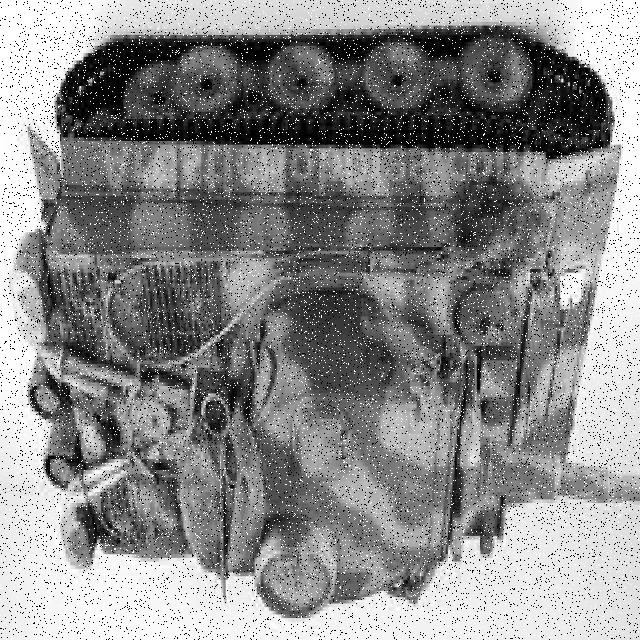MIL_MBT: (15, 31, 622, 596)
